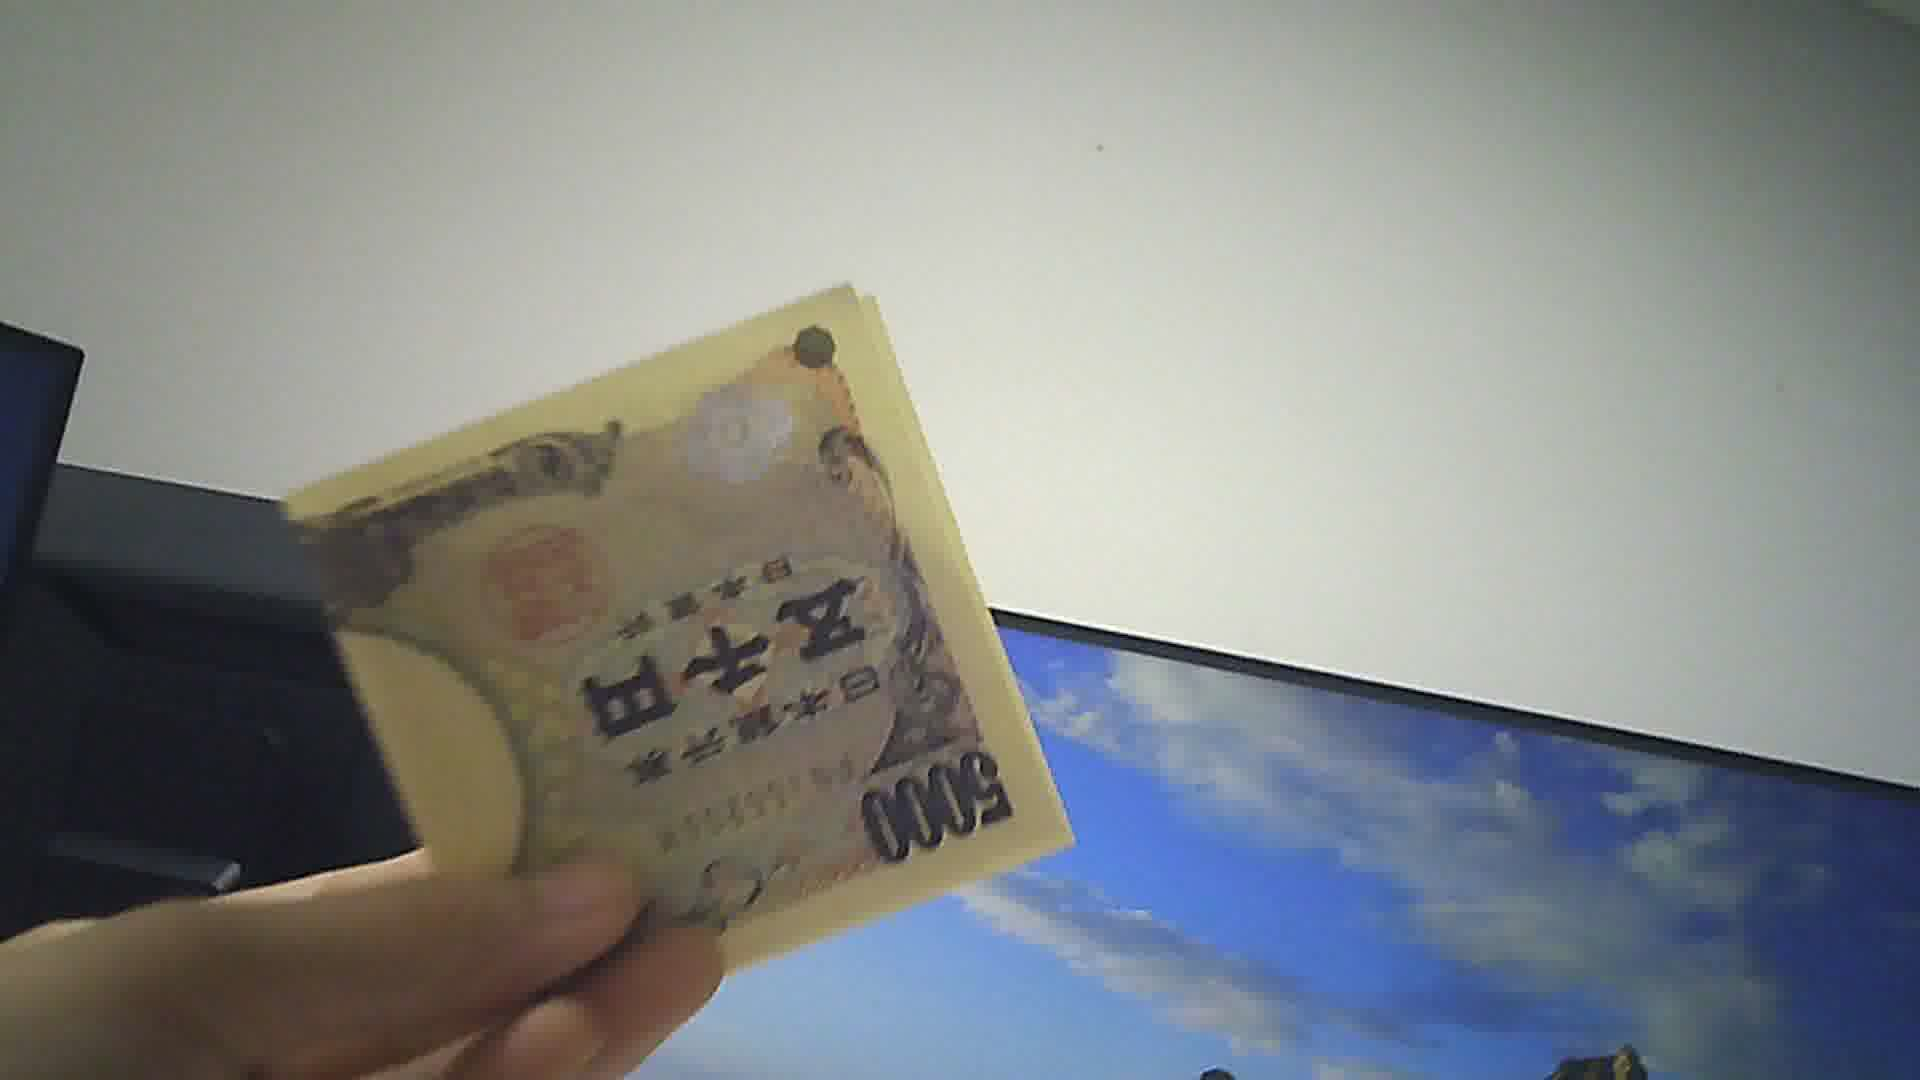5,000 Yen: (306, 260, 1065, 965)
